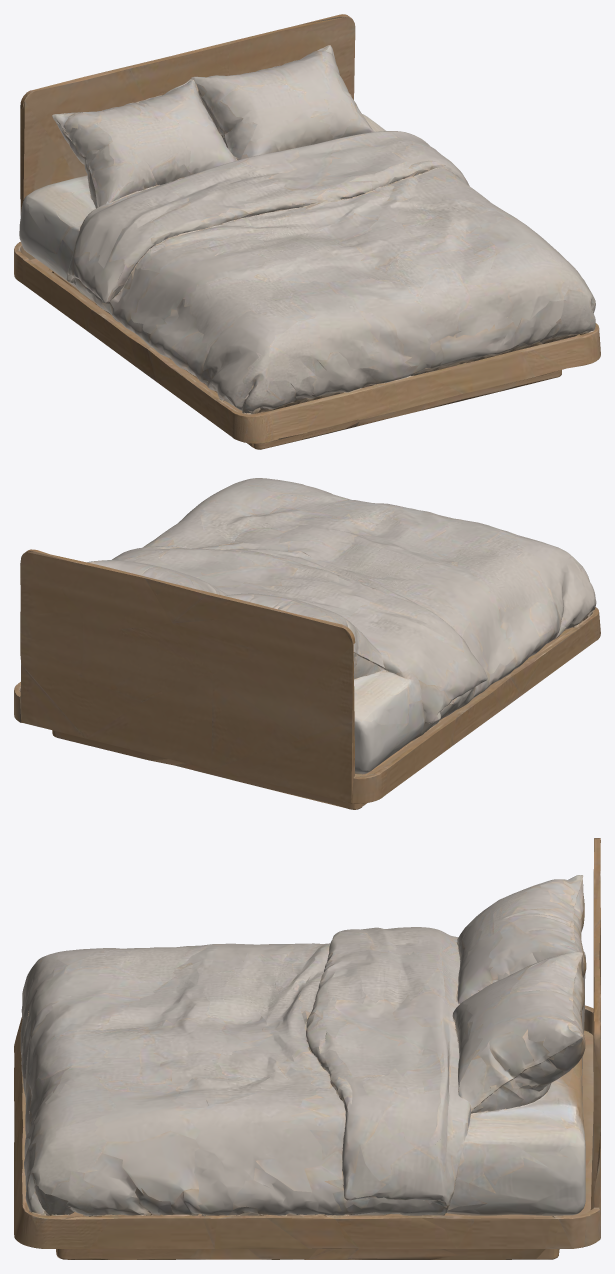
3 renders of one model, top to bottom at view 1: azimuth 30°, elevation 25°; view 2: azimuth 150°, elevation 25°; view 3: azimuth 270°, elevation 25°, orthographic. The views are drawn at different scales.
Visible parts, largest first — view 1: Mesh_0; view 2: Mesh_0; view 3: Mesh_0.
Part boxes in pixels (x1,y1,x2,y2): Mesh_0: (14,14,600,449); Mesh_0: (14,478,600,809); Mesh_0: (14,838,600,1259).
Bounding box in the file's own units: 1.72 × 0.8487 × 1.88.
Materials: 1 (1 with a texture image).
